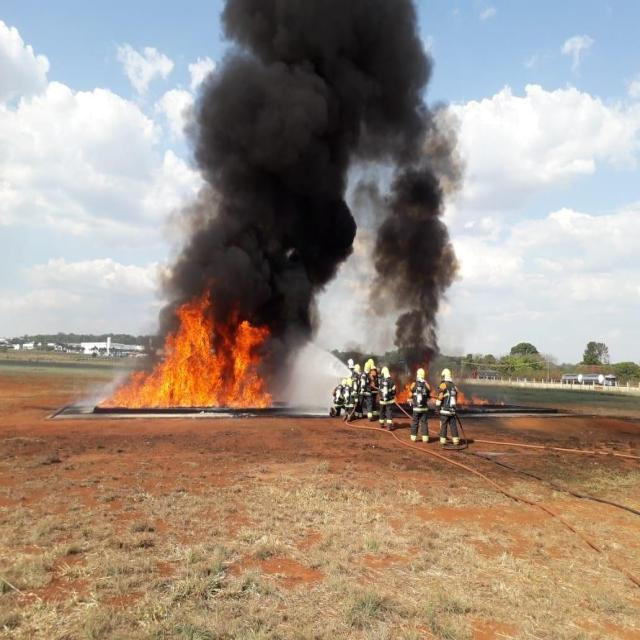Fire: (104, 289, 271, 407), (456, 385, 488, 406), (394, 378, 410, 403)
